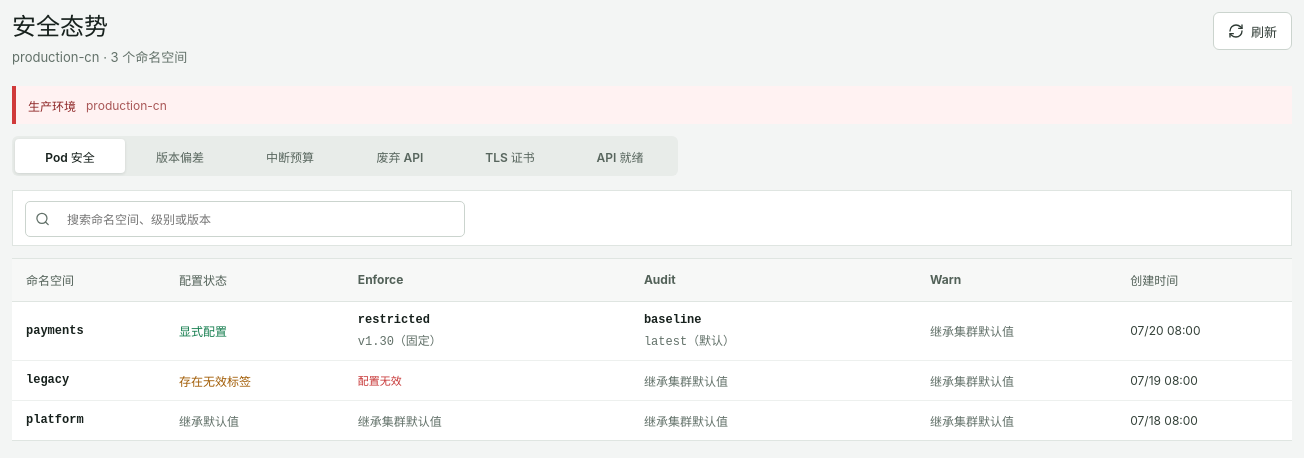
Scenario: SecurityPage › loads deprecated API evidence only after its view is selected and searches locally
expect the text "payments" is shown: met, box [26,324,84,338]
Click the button "废弃 API": click(400, 156) [345,139,455,173]
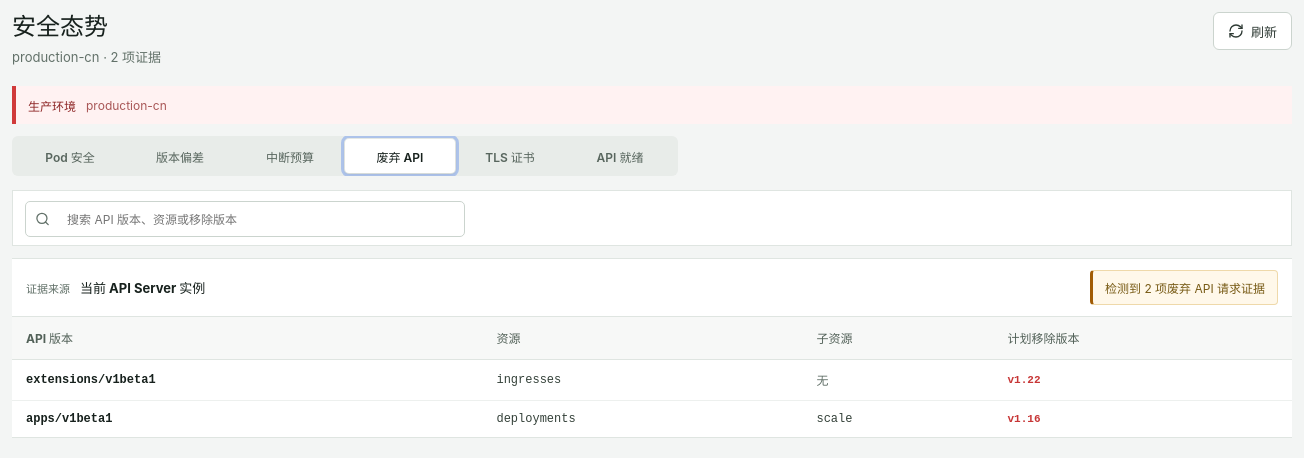
expect the text "extensions/v1beta1" is shown: met, box [26,372,156,386]
expect the text "ingresses" is shown: met, box [482,359,802,400]
expect the text "deployments" is shown: met, box [482,400,802,436]
In the search field named "搜索废弃 API 请求证据": (256, 219) [57,200,455,238], type "apps/v1beta1"
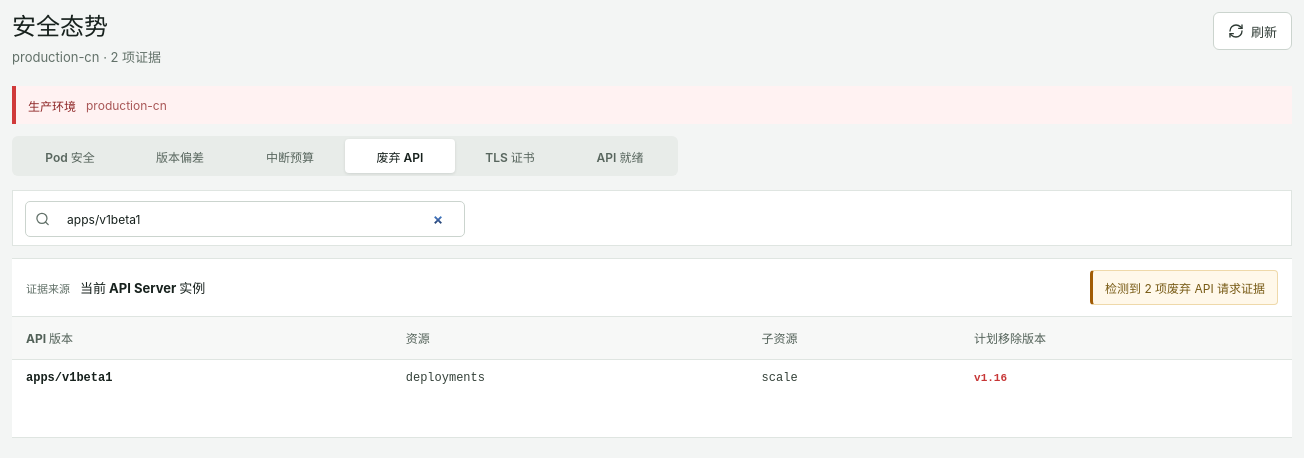
expect the text "apps/v1beta1" is shown: met, box [26,370,112,384]
expect the text "extensions/v1beta1" is gone: met
